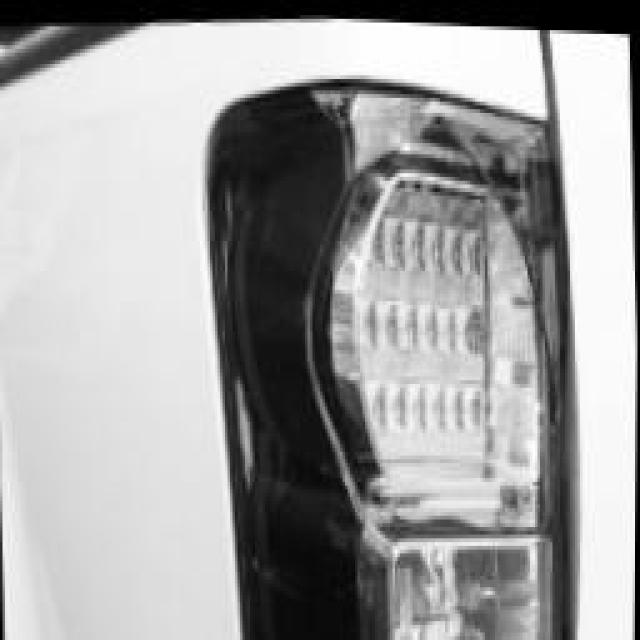Light: (218, 64, 565, 640)
